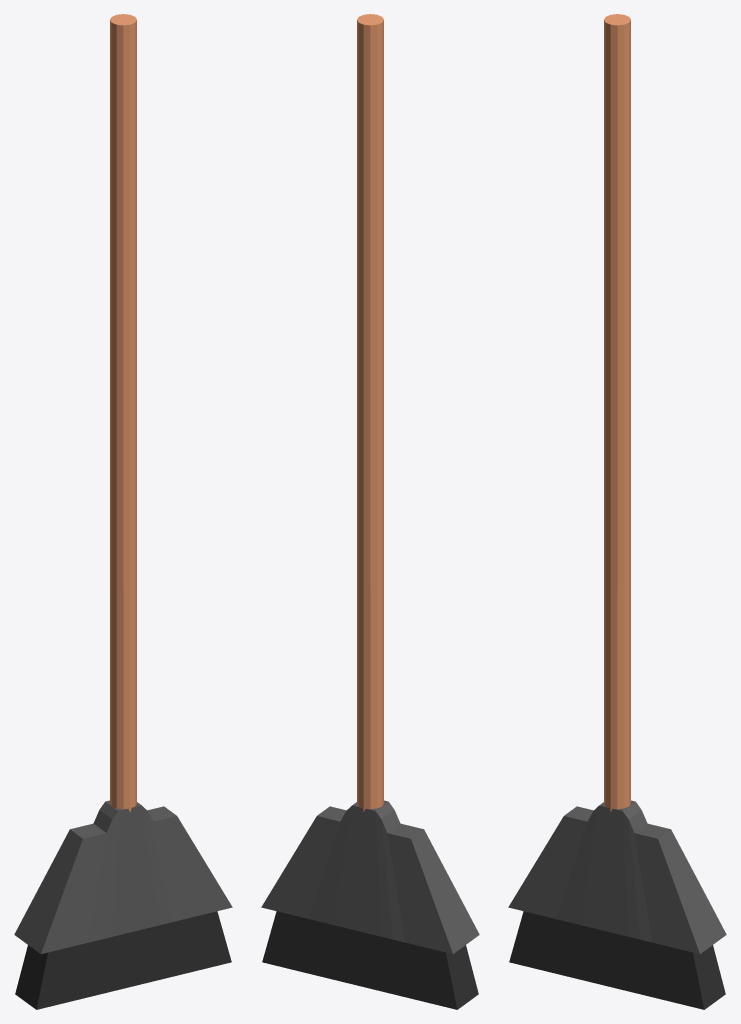
The model's file is broom.fbx.
3 views of the same model, side by side, from view 1: azimuth 30°, elevation 25°; view 2: azimuth 150°, elevation 25°; view 3: azimuth 330°, elevation 25° (orthographic).
Visible parts, largest first — view 1: Cylinder, Cube, Cube.001; view 2: Cylinder, Cube, Cube.001; view 3: Cylinder, Cube, Cube.001.
Boxes of the visible parts, left/top/right/bottom form: Cylinder: left=110, top=14, right=136, bottom=812; Cube: left=14, top=800, right=232, bottom=953; Cube.001: left=15, top=911, right=231, bottom=1009; Cylinder: left=357, top=14, right=383, bottom=812; Cube: left=261, top=800, right=479, bottom=953; Cube.001: left=262, top=911, right=478, bottom=1009; Cylinder: left=604, top=14, right=630, bottom=812; Cube: left=508, top=800, right=726, bottom=953; Cube.001: left=509, top=911, right=725, bottom=1009.
Size of the model in its own units: 415 by 1945 by 98.1.
